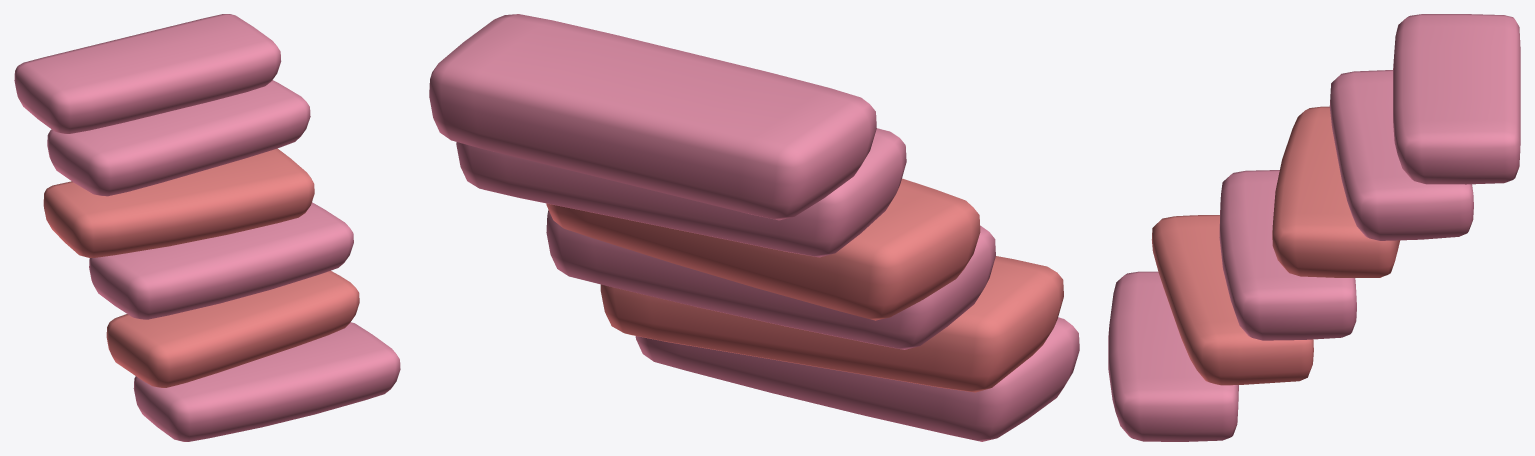
Rendered from Stair_02.glb.
3 renders of one model, left to right at view 1: azimuth 30°, elevation 25°; view 2: azimuth 150°, elevation 25°; view 3: azimuth 270°, elevation 25°, orthographic. The views are drawn at different scales.
Visible parts, largest first — view 1: Stair_02; view 2: Stair_02; view 3: Stair_02.
Part boxes in pixels (x1,y1,x2,y2): Stair_02: [14, 14, 400, 441]; Stair_02: [429, 14, 1079, 441]; Stair_02: [1108, 14, 1520, 441].
Size of the model in its own units: 5.5 by 5.52 by 6.53.
Materials: 1 (1 with a texture image).
